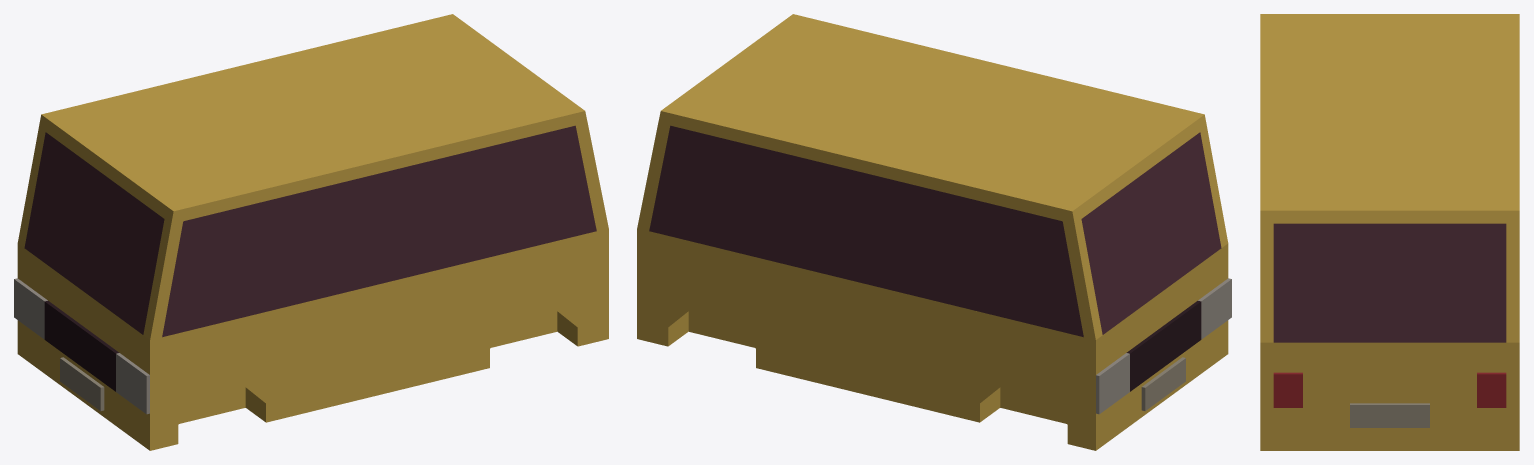
File: MiniVan_Yellow.fbx
3 renders of one model, left to right at view 1: azimuth 30°, elevation 25°; view 2: azimuth 150°, elevation 25°; view 3: azimuth 270°, elevation 25°, orthographic. The views are drawn at different scales.
Visible parts, largest first — view 1: MiniVan_Yellow, MiniVan_Lights; view 2: MiniVan_Yellow, MiniVan_Lights; view 3: MiniVan_Yellow, MiniVan_Lights.
Part boxes in pixels (<box>): MiniVan_Yellow: <box>17,14,608,450</box>; MiniVan_Lights: <box>14,278,149,414</box>; MiniVan_Yellow: <box>637,14,1228,450</box>; MiniVan_Lights: <box>1096,278,1231,414</box>; MiniVan_Yellow: <box>1260,14,1519,450</box>; MiniVan_Lights: <box>1273,372,1506,407</box>.
Bounding box in the file's own units: 3.96 × 1.9 × 1.95.
